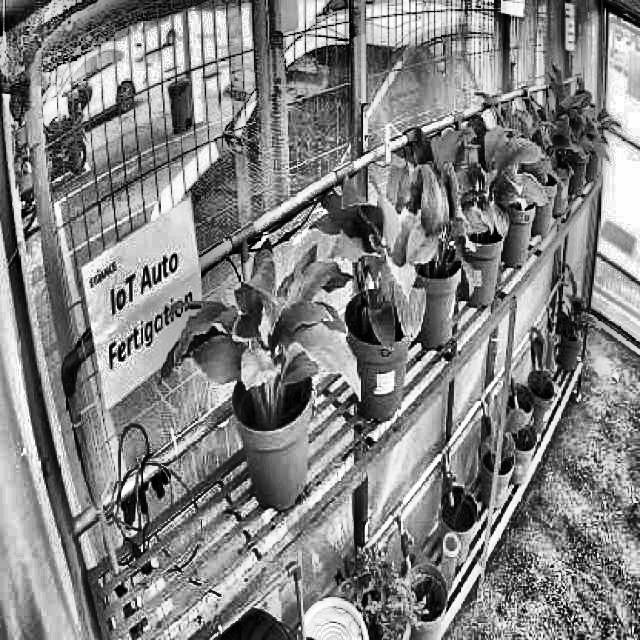plants: (158, 232, 357, 416), (318, 180, 427, 340), (394, 126, 480, 300), (452, 102, 546, 233)
